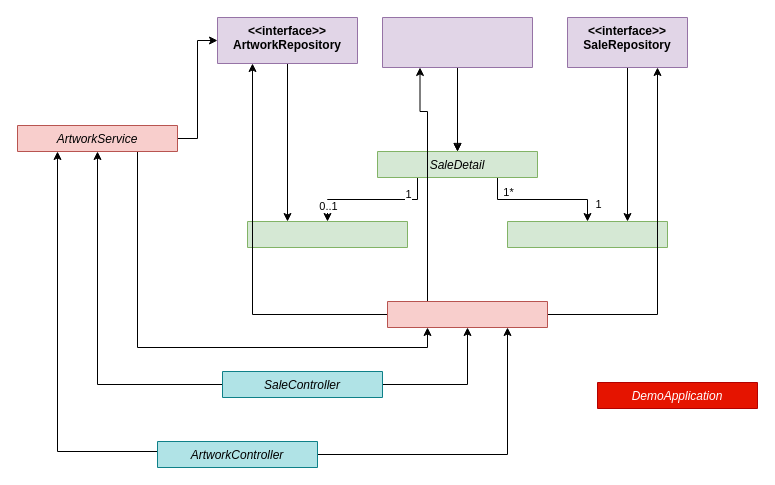
Image size: 775x485. Some labels were removed from this diagram. The box of each missing label's shape, as (x1, y1, x2, y2) in pixels:
<<interface>> SaleDetailRepository: (382, 16, 532, 68)
Artwork: (246, 220, 408, 248)
Sale: (506, 220, 668, 248)
SaleService: (386, 300, 548, 328)
